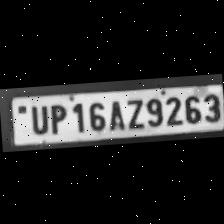1: (66, 98, 86, 132)
2: (162, 92, 182, 125)
3: (200, 88, 222, 122)
6: (84, 97, 106, 131), (180, 92, 200, 124)
9: (142, 93, 162, 127)
A: (105, 96, 125, 130)
P: (46, 100, 68, 134)
U: (25, 100, 49, 134)
Z: (122, 94, 144, 129)
